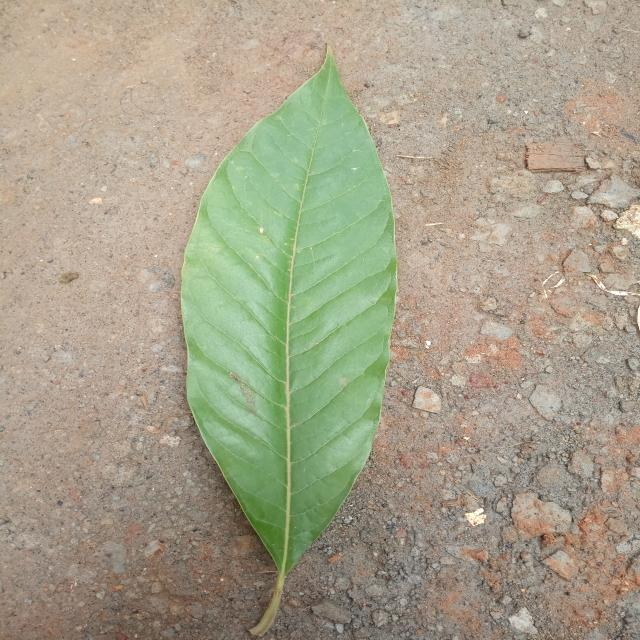coffee: (182, 49, 397, 635)
